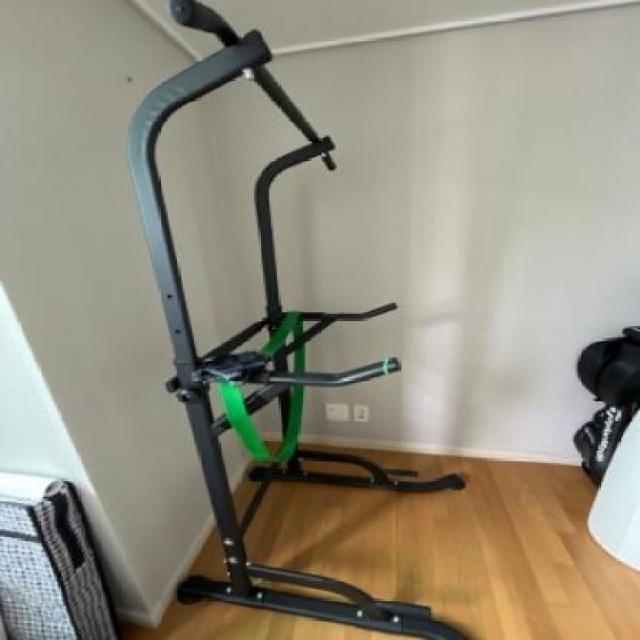chinning dipping: (131, 0, 480, 640)
